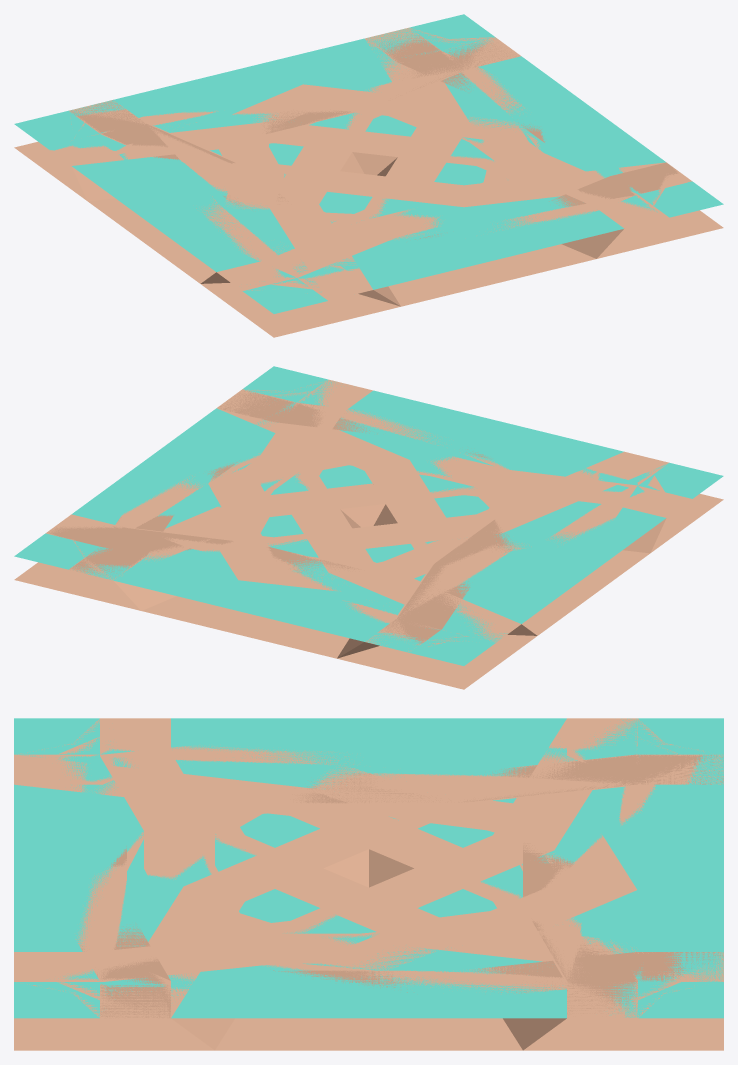
Rendered from path.fbx.
The picture shows the model from 3 angles, top to bottom: view 1: azimuth 30°, elevation 25°; view 2: azimuth 150°, elevation 25°; view 3: azimuth 270°, elevation 25°; orthographic projection. The views are drawn at different scales.
Visible parts, largest first — view 1: 0-way, 2-way-curve-north, 1-way-south, 2-way-curve-east, 2-way-curve-south, 1-way-west, 2-way-curve-west, 1-way-north, 3-way-corner-south, 2-way-straight-north, 3-way-corner-west, 2-way-straight-east (+12 smaller); view 2: 0-way, 2-way-curve-north, 2-way-curve-east, 1-way-west, 2-way-straight-north, 1-way-south, 2-way-curve-west, 1-way-north, 3-way-corner-west, 2-way-straight-east, 2-way-curve-south, 3-way-corner-south (+14 smaller); view 3: 0-way, 2-way-curve-north, 2-way-curve-east, 1-way-west, 1-way-south, 1-way-north, 2-way-curve-west, 2-way-curve-south, 2-way-straight-east, 2-way-straight-north, 3-way-corner-south, 1-way-east (+18 smaller).
Part boxes in pixels (x1=…): 0-way: x1=14, y1=15, x2=597, y2=225; 2-way-curve-north: x1=246, y1=14, x2=704, y2=266; 1-way-south: x1=148, y1=102, x2=720, y2=313; 2-way-curve-east: x1=138, y1=112, x2=721, y2=313; 2-way-curve-south: x1=17, y1=112, x2=623, y2=313; 1-way-west: x1=87, y1=110, x2=509, y2=311; 2-way-curve-west: x1=17, y1=15, x2=598, y2=230; 1-way-north: x1=16, y1=36, x2=586, y2=224; 3-way-corner-south: x1=85, y1=113, x2=616, y2=337; 2-way-straight-north: x1=16, y1=29, x2=545, y2=205; 3-way-corner-west: x1=16, y1=40, x2=584, y2=231; 2-way-straight-east: x1=263, y1=16, x2=686, y2=239; 0-way: x1=35, y1=456, x2=607, y2=665; 2-way-curve-north: x1=20, y1=366, x2=519, y2=658; 2-way-curve-east: x1=243, y1=367, x2=722, y2=566; 1-way-west: x1=305, y1=422, x2=689, y2=638; 2-way-straight-north: x1=31, y1=460, x2=518, y2=660; 1-way-south: x1=142, y1=368, x2=697, y2=563; 2-way-curve-west: x1=72, y1=454, x2=666, y2=665; 1-way-north: x1=34, y1=450, x2=603, y2=664; 3-way-corner-west: x1=14, y1=457, x2=522, y2=688; 2-way-straight-east: x1=22, y1=367, x2=491, y2=576; 2-way-curve-south: x1=293, y1=451, x2=722, y2=655; 3-way-corner-south: x1=260, y1=453, x2=602, y2=627; 0-way: x1=302, y1=718, x2=723, y2=1018; 2-way-curve-north: x1=14, y1=812, x2=723, y2=1050; 2-way-curve-east: x1=14, y1=718, x2=566, y2=1050; 1-way-west: x1=14, y1=718, x2=671, y2=933; 1-way-south: x1=14, y1=718, x2=477, y2=1018; 1-way-north: x1=214, y1=718, x2=723, y2=1018; 2-way-curve-west: x1=203, y1=718, x2=723, y2=1015; 2-way-curve-south: x1=14, y1=718, x2=722, y2=938; 2-way-straight-east: x1=14, y1=843, x2=706, y2=1050; 2-way-straight-north: x1=273, y1=718, x2=723, y2=1018; 3-way-corner-south: x1=221, y1=718, x2=720, y2=938; 1-way-east: x1=14, y1=821, x2=685, y2=1050.
Size of the model in its own units: 100 by 5 by 100.
